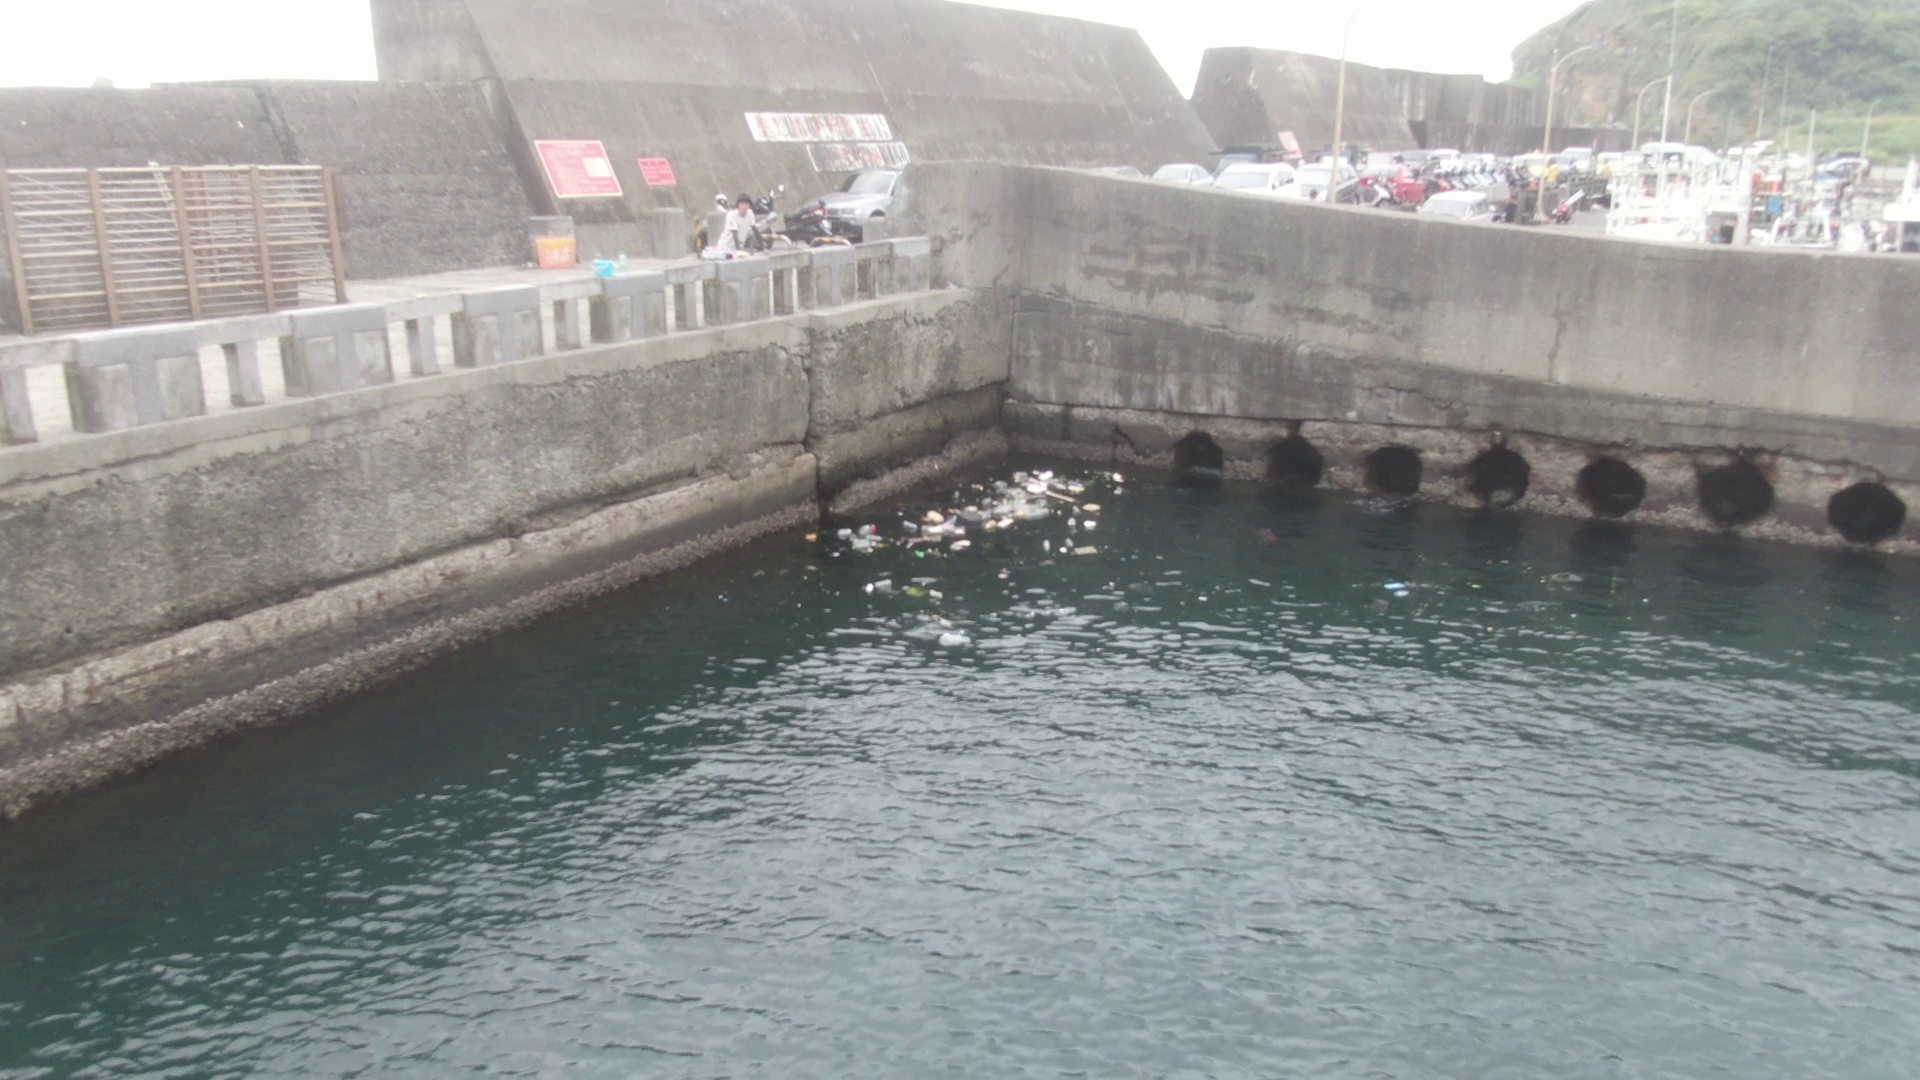garbage: (812, 444, 1164, 651)
